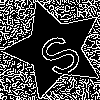S: (29, 24, 86, 81)
